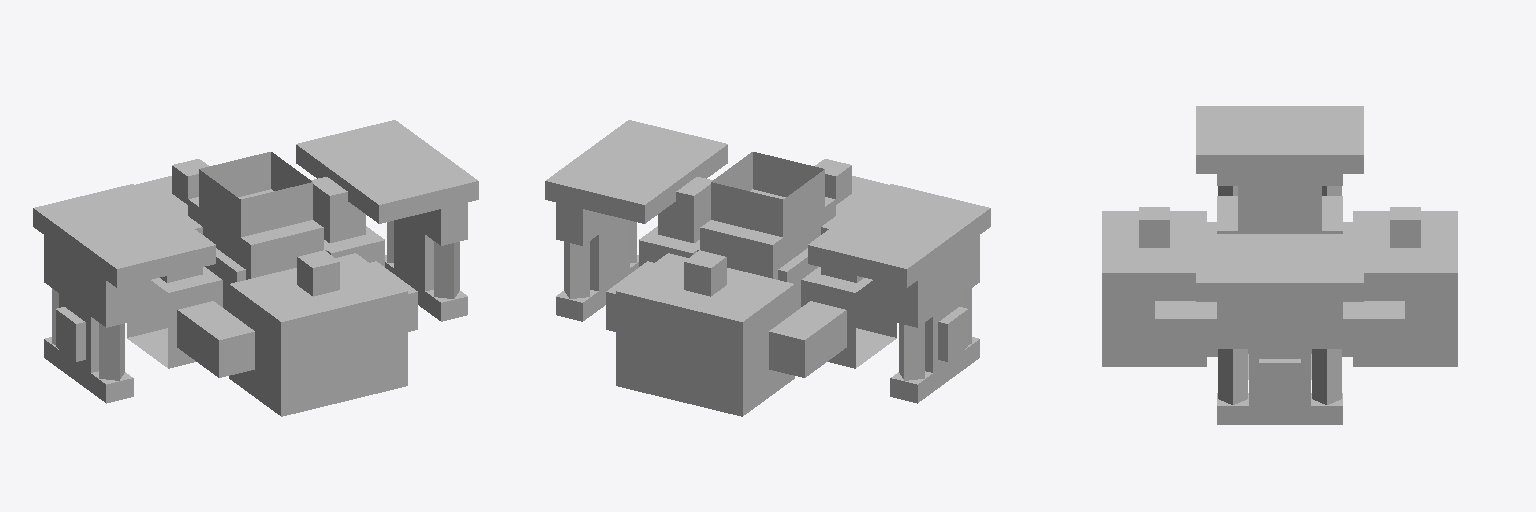
Rendered from frame.obj.
3 renders of one model, left to right at view 1: azimuth 30°, elevation 25°; view 2: azimuth 150°, elevation 25°; view 3: azimuth 270°, elevation 25°, orthographic.
Visible parts, largest first — view 1: cube_17, cube_22, cube_1, cube_0, cube_14, cube_10, cube_19, cube_23, cube_20, cube_3, cube_27, cube_6 (+11 smaller); view 2: cube_8, cube_22, cube_1, cube_0, cube_14, cube_10, cube_15, cube_23, cube_20, cube_3, cube_27, cube_6 (+11 smaller); view 3: cube_8, cube_17, cube_1, cube_22, cube_0, cube_6, cube_13, cube_16, cube_4, cube_10, cube_3, cube_2 (+4 smaller).
Part boxes in pixels (left/top/right/bottom): cube_17: left=229, top=253, right=407, bottom=416; cube_22: left=33, top=184, right=215, bottom=287; cube_1: left=296, top=120, right=478, bottom=223; cube_0: left=199, top=152, right=312, bottom=236; cube_14: left=127, top=267, right=222, bottom=368; cube_10: left=188, top=189, right=323, bottom=279; cube_19: left=177, top=301, right=254, bottom=377; cube_23: left=44, top=235, right=133, bottom=327; cube_20: left=311, top=177, right=365, bottom=242; cube_3: left=394, top=218, right=433, bottom=290; cube_27: left=44, top=337, right=133, bottom=403; cube_6: left=403, top=203, right=467, bottom=245; cube_8: left=616, top=253, right=794, bottom=416; cube_22: left=808, top=184, right=990, bottom=287; cube_1: left=545, top=120, right=727, bottom=223; cube_0: left=711, top=152, right=824, bottom=236; cube_14: left=801, top=267, right=896, bottom=368; cube_10: left=700, top=189, right=835, bottom=279; cube_15: left=769, top=301, right=846, bottom=377; cube_23: left=890, top=235, right=979, bottom=327; cube_20: left=658, top=177, right=712, bottom=242; cube_3: left=590, top=218, right=629, bottom=290; cube_27: left=890, top=337, right=979, bottom=403; cube_6: left=556, top=203, right=620, bottom=245; cube_8: left=1353, top=211, right=1457, bottom=366; cube_17: left=1102, top=211, right=1206, bottom=366; cube_1: left=1196, top=234, right=1363, bottom=301; cube_22: left=1196, top=106, right=1363, bottom=173; cube_0: left=1238, top=158, right=1321, bottom=230; cube_6: left=1217, top=302, right=1342, bottom=348; cube_13: left=1342, top=301, right=1404, bottom=356; cube_16: left=1155, top=301, right=1217, bottom=356; cube_4: left=1217, top=393, right=1342, bottom=424; cube_10: left=1217, top=196, right=1342, bottom=233; cube_3: left=1249, top=349, right=1310, bottom=405; cube_2: left=1259, top=359, right=1300, bottom=400.
Size of the model in its own units: 2.62 by 1.06 by 2.12.